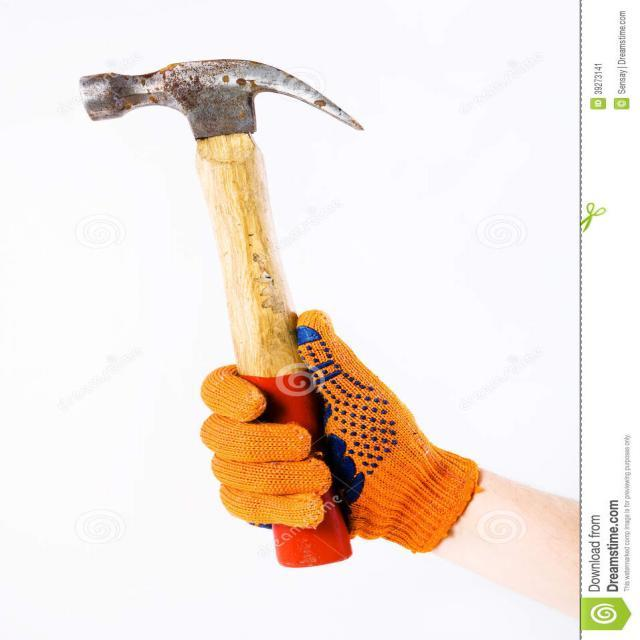hammer: (71, 53, 378, 574)
